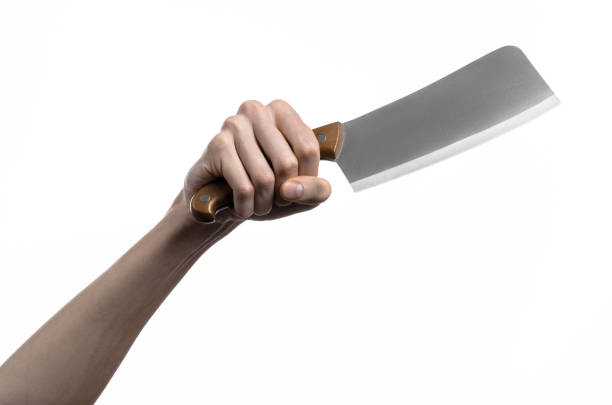knife: (187, 44, 565, 225)
